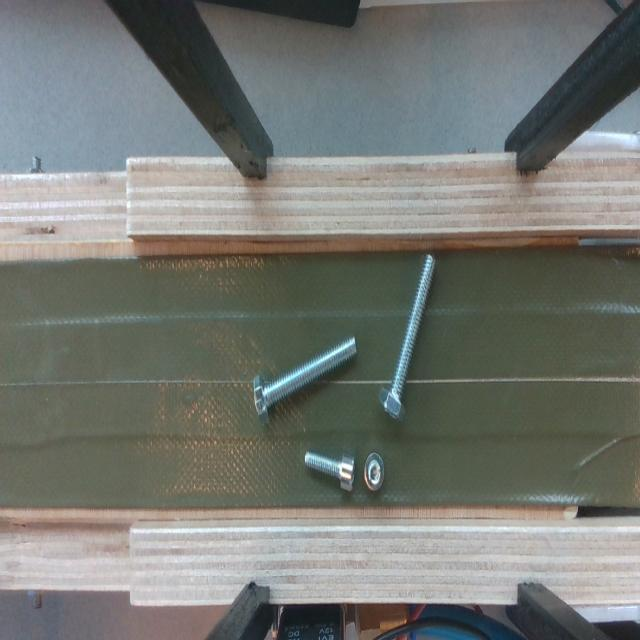Bolt: (376, 253, 438, 429), (248, 337, 361, 425), (300, 443, 355, 496)
Nut: (358, 448, 388, 502)
